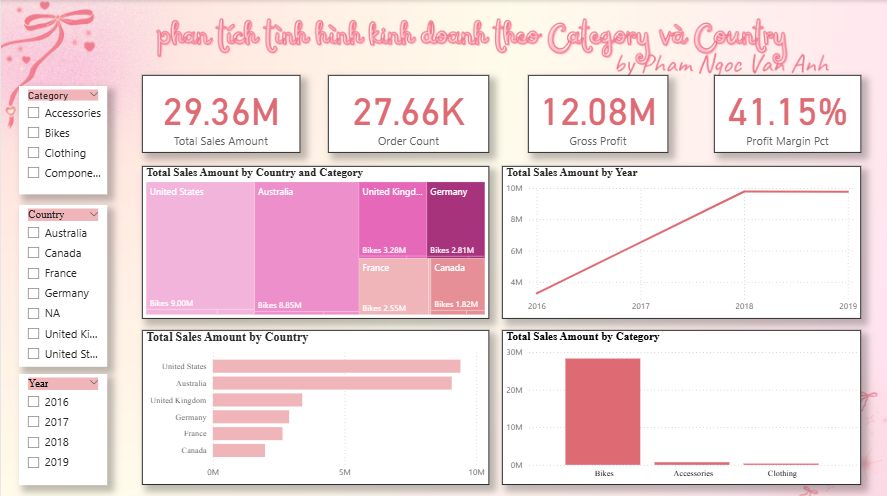

The page's visual inventory and layout, read from the dashboard file:
{"tool":"powerbi","page":{"name":"Page 1","canvas":[1280,720],"ordinal":0},"visuals":[{"type":"card","fields":{"Values":["Table.Total Sales Amount"]},"box":[203,108,227.5,112.3],"z":0},{"type":"card","fields":{"Values":["Table.Gross Profit"]},"box":[758.9,108,201.6,112.3],"z":1000},{"type":"card","fields":{"Values":["Table.Profit Margin Pct"]},"box":[1026.7,108,211.7,112.3],"z":2000},{"type":"card","fields":{"Values":["Table.Order Count"]},"box":[470.9,108,231.8,112.3],"z":3000},{"type":"slicer","fields":{"Values":["Products.Category"]},"box":[25.9,123.8,126.7,155.5],"z":4000},{"type":"slicer","fields":{"Values":["Territory.Country"]},"box":[25.9,295.2,126.7,233.3],"z":5000},{"type":"slicer","fields":{"Values":["Calendar.CalendarYear"]},"box":[25.9,538.6,126.7,159.8],"z":6000},{"type":"clusteredColumnChart","fields":{"Category":["Products.Category"],"Y":["Table.Total Sales Amount"]},"box":[721.4,475.2,517,223.2],"z":7000},{"type":"clusteredBarChart","fields":{"Y":["Table.Total Sales Amount"],"Category":["Territory.Country"]},"box":[203,475.2,499.7,223.2],"z":8000},{"type":"treemap","fields":{"Group":["Territory.Country"],"Details":["Products.Category"],"Values":["Table.Total Sales Amount"]},"box":[203,239,499.7,220.3],"z":9000},{"type":"lineChart","fields":{"Category":["Calendar.Date.Variation.Date Hierarchy.Year","Calendar.Date.Variation.Date Hierarchy.Quarter","Calendar.Date.Variation.Date Hierarchy.Month","Calendar.Date.Variation.Date Hierarchy.Day"],"Y":["Table.Total Sales Amount"]},"box":[721.4,239,517,220.3],"z":10000}]}

Visuals, with their boxes in screenshot pixels (x1, y1, x2, y2), scaled from the page's 1280x720 canvas onto the 887x496 screenshot:
card - Table.Total Sales Amount: (141, 74, 298, 152)
card - Table.Gross Profit: (526, 74, 666, 152)
card - Table.Profit Margin Pct: (711, 74, 858, 152)
card - Table.Order Count: (326, 74, 487, 152)
slicer - Products.Category: (18, 85, 106, 192)
slicer - Territory.Country: (18, 203, 106, 364)
slicer - Calendar.CalendarYear: (18, 371, 106, 481)
clusteredColumnChart - Products.Category x Table.Total Sales Amount: (500, 327, 858, 481)
clusteredBarChart - Table.Total Sales Amount x Territory.Country: (141, 327, 487, 481)
treemap - Territory.Country x Products.Category: (141, 165, 487, 316)
lineChart - Calendar.Date.Variation.Date Hierarchy.Year x Calendar.Date.Variation.Date Hierarchy.Quarter: (500, 165, 858, 316)
